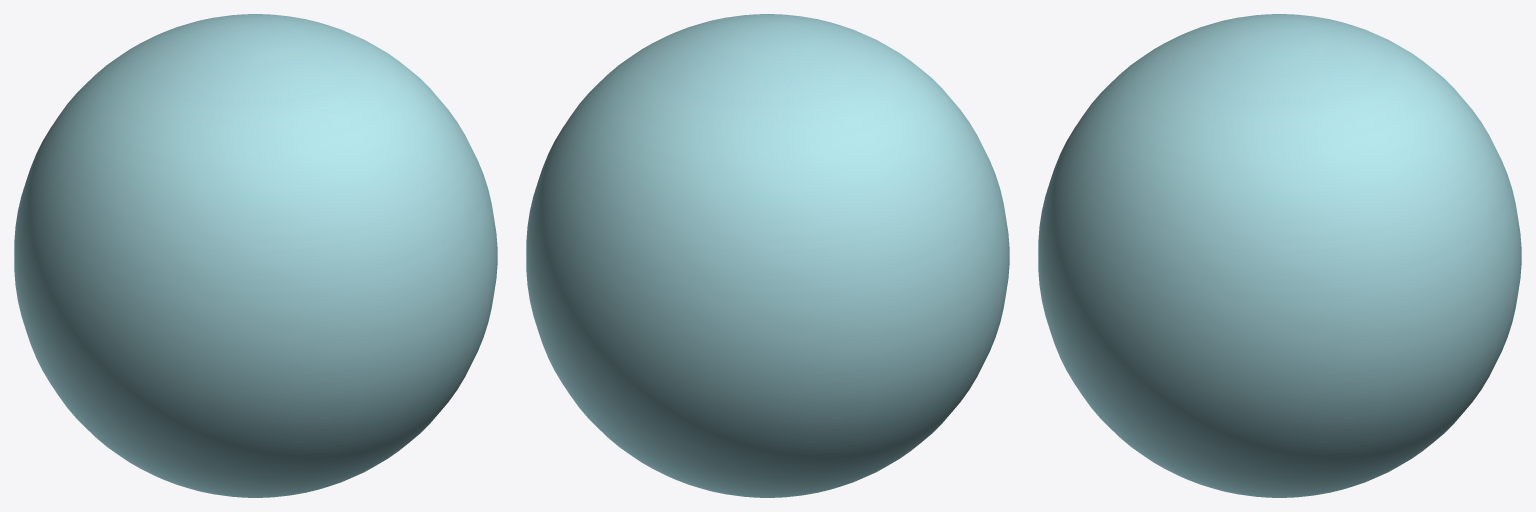
File: uranus.glb
3 views of the same model, side by side, from view 1: azimuth 30°, elevation 25°; view 2: azimuth 150°, elevation 25°; view 3: azimuth 270°, elevation 25° (orthographic).
Visible parts, largest first — view 1: Sphere; view 2: Sphere; view 3: Sphere.
Boxes of the visible parts, x1=… form: Sphere: x1=14, y1=14, x2=497, y2=497; Sphere: x1=526, y1=14, x2=1009, y2=497; Sphere: x1=1038, y1=14, x2=1521, y2=497.
Bounding box in the file's own units: 2 × 2 × 2.
Materials: 1 (1 with a texture image).
